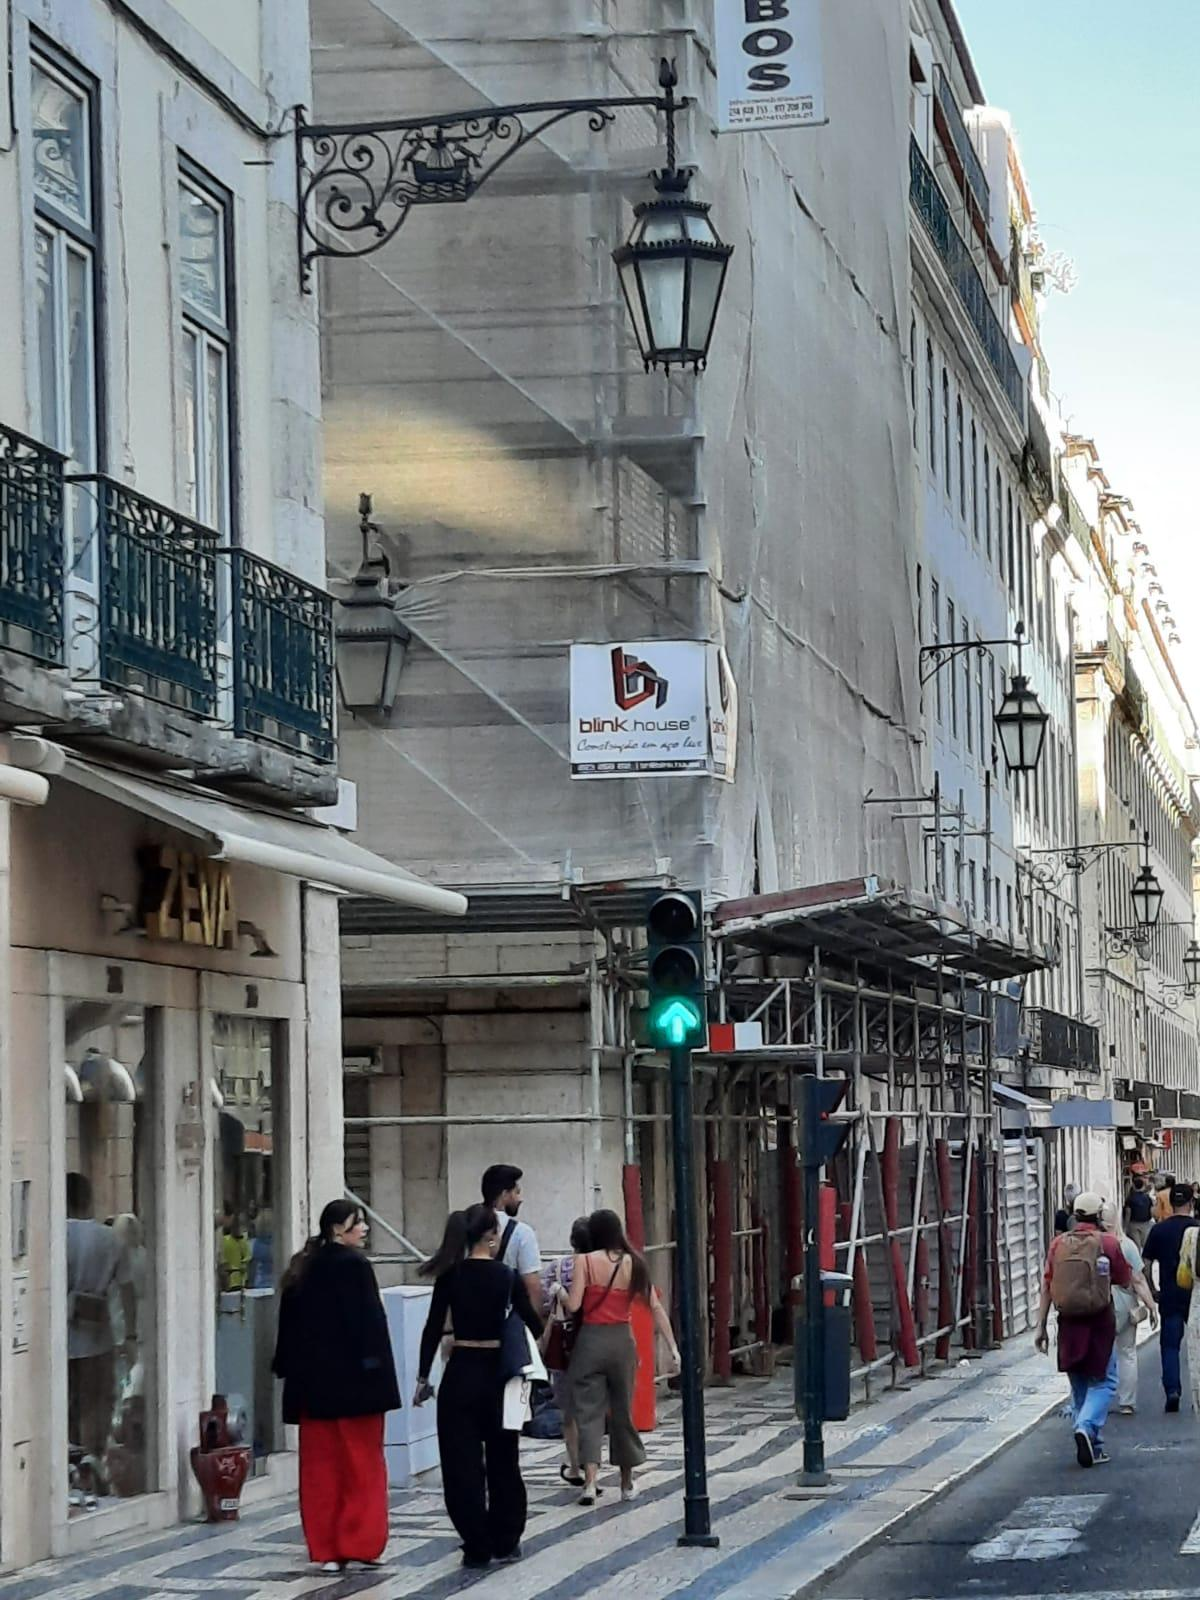green_light: (645, 889, 707, 1049)
